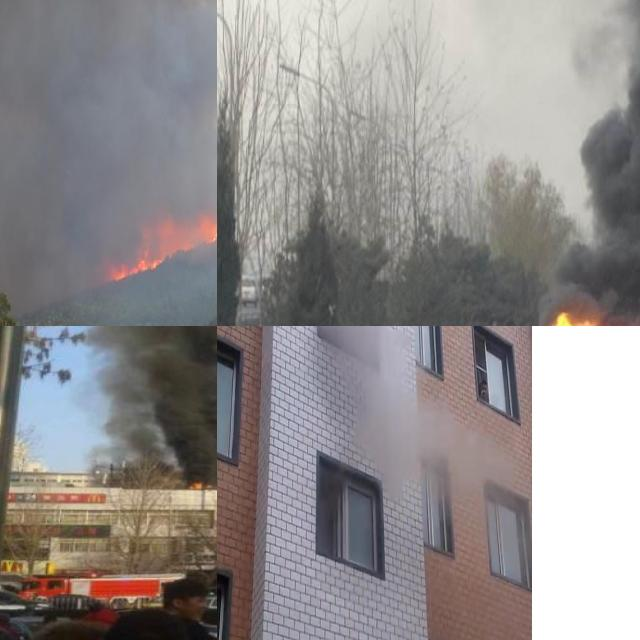fire: (105, 210, 217, 277), (542, 311, 578, 326), (186, 478, 204, 489)
smoke: (0, 0, 217, 326), (316, 326, 514, 500), (567, 0, 640, 326), (64, 326, 217, 478)
